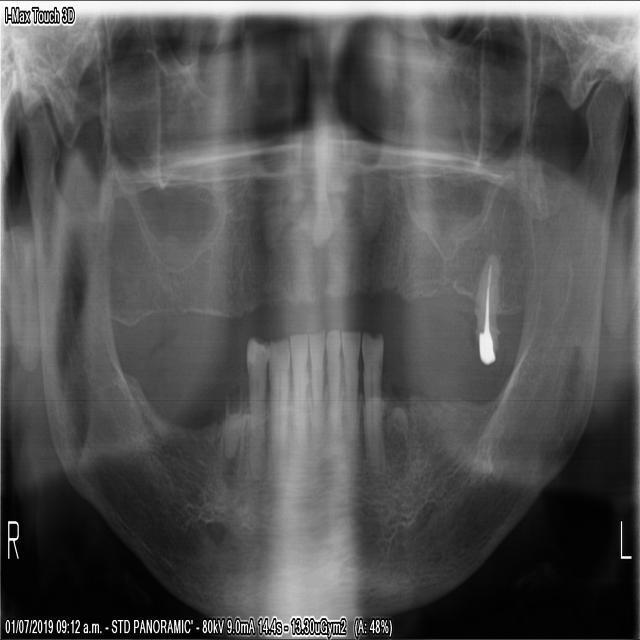LCD: (344, 333, 362, 448)
LID: (310, 325, 327, 450), (325, 327, 342, 442)
LIU: (311, 134, 335, 248)
LMU: (476, 233, 503, 367)
LPMD: (362, 330, 383, 474)
RCD: (242, 334, 268, 483)
RID: (268, 333, 290, 470), (290, 327, 309, 470)
